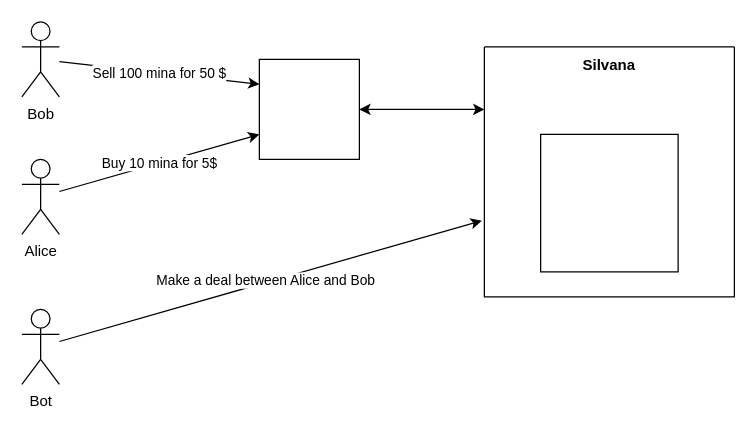
Some shapes in this 756 by 433 pixel diagram are drawn without their labels. The box of each missing label's shape, as (x1, y1, x2, y2) in pixels:
Frontend: (258, 58, 359, 159)
Zeko Verify &store Order Book state: (539, 133, 678, 272)
